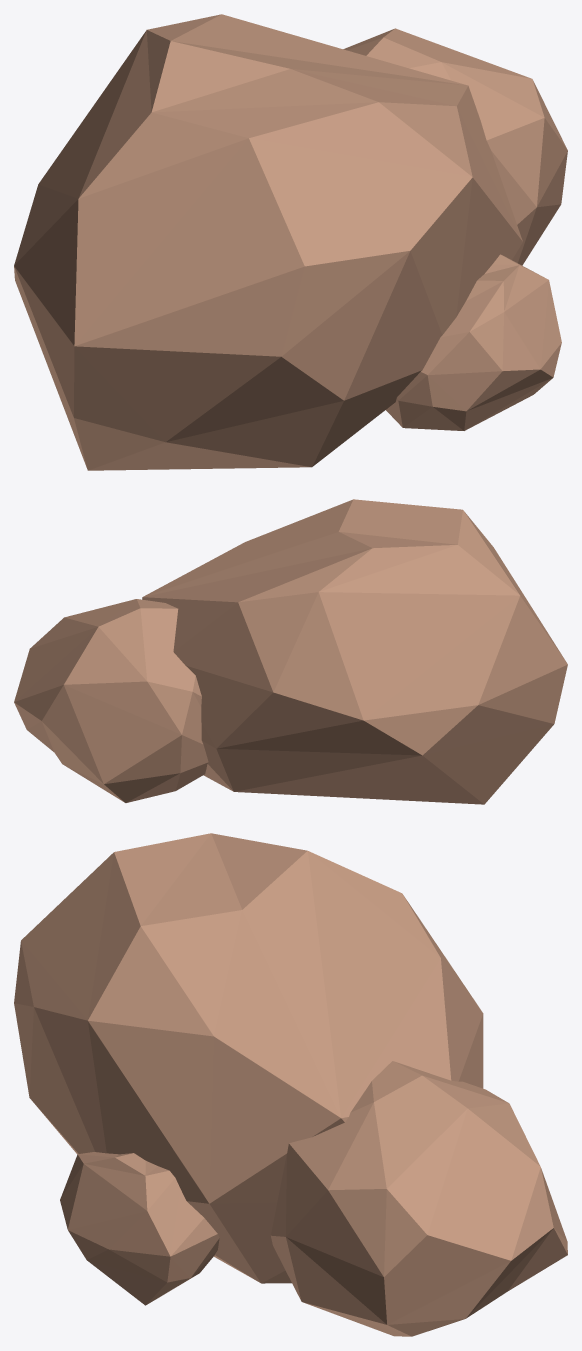
The model's file is RockCluster.fbx.
3 renders of one model, top to bottom at view 1: azimuth 30°, elevation 25°; view 2: azimuth 150°, elevation 25°; view 3: azimuth 270°, elevation 25°, orthographic. The views are drawn at different scales.
Parts seen in each view (by area): view 1: LowPolyRock, LowPolyRock3, LowPolyRock2; view 2: LowPolyRock, LowPolyRock2; view 3: LowPolyRock, LowPolyRock2, LowPolyRock3.
Boxes of the visible parts, x1,y1,x2,y2 form: LowPolyRock: [14, 14, 522, 470]; LowPolyRock3: [386, 254, 561, 430]; LowPolyRock2: [343, 28, 567, 265]; LowPolyRock: [142, 499, 567, 804]; LowPolyRock2: [14, 599, 208, 802]; LowPolyRock: [14, 833, 483, 1283]; LowPolyRock2: [270, 1061, 567, 1336]; LowPolyRock3: [60, 1152, 219, 1305].
Size of the model in its own units: 59 by 33.98 by 48.66.
